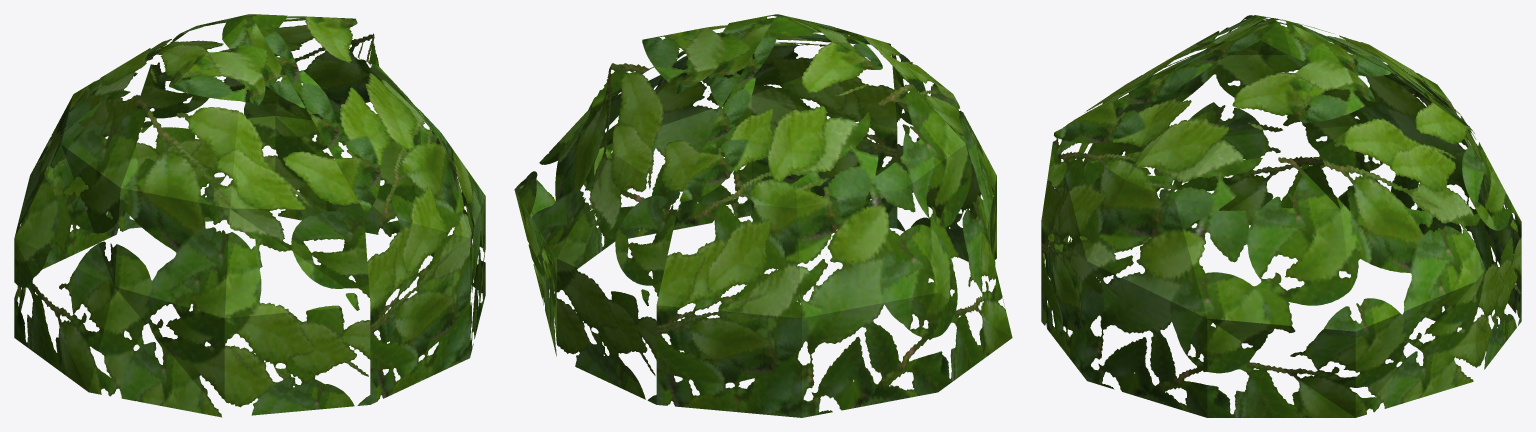
Rendered from SmallBush04.dae.
3 views of the same model, side by side, from view 1: azimuth 30°, elevation 25°; view 2: azimuth 150°, elevation 25°; view 3: azimuth 270°, elevation 25° (orthographic).
Visible parts, largest first — view 1: Sphere; view 2: Sphere; view 3: Sphere.
Part boxes in pixels (box(x1,y1,x2,y2)): Sphere: box(14, 14, 485, 417); Sphere: box(514, 14, 1012, 417); Sphere: box(1041, 15, 1521, 417).
Bounding box in the file's own units: 1.57 × 1.55 × 1.08.
1 material, 1 textured.
